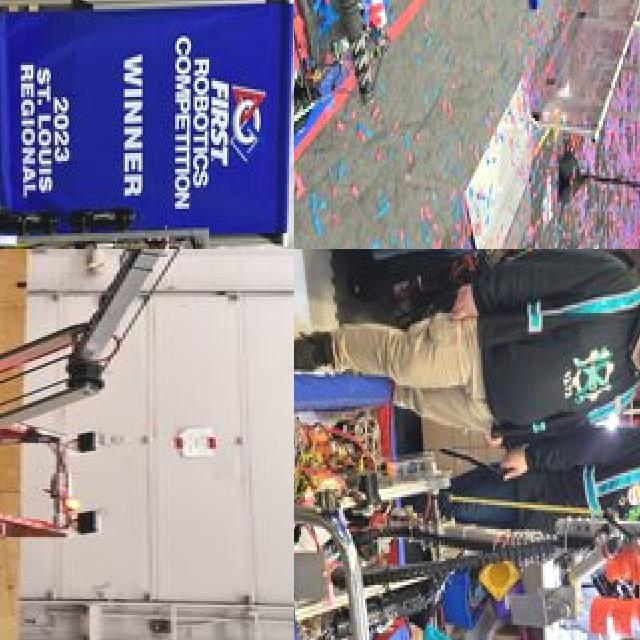FRC-Robots: (294, 357, 640, 640), (0, 249, 272, 583), (294, 0, 640, 214), (0, 51, 230, 249)
